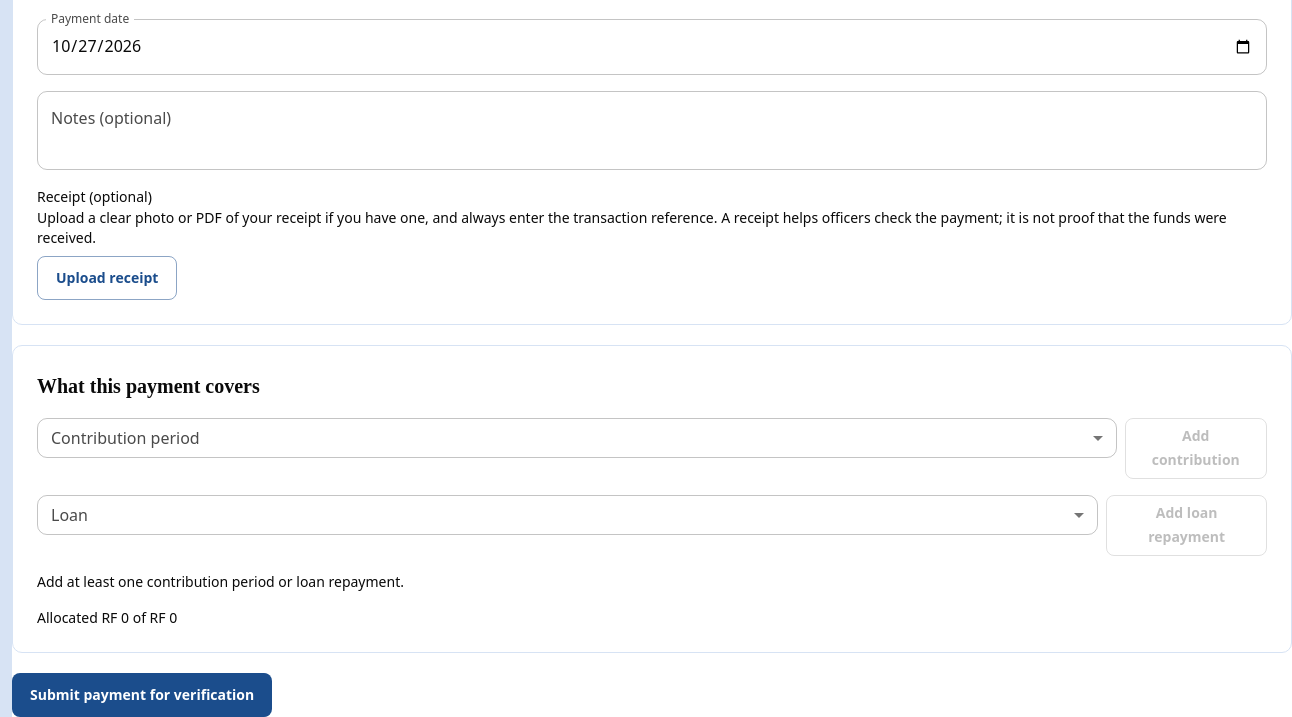
PaymentSubmitPanel › offers only repayable loans and no member-credit allocation
This screenshot has width=1292, height=717.
(page scrolled)
Expected: the button "Add contribution" is shown, [1124,418,1267,479]
Click the 2nd dropdown named "Loan" at (568, 515), box [37,495,1098,535]
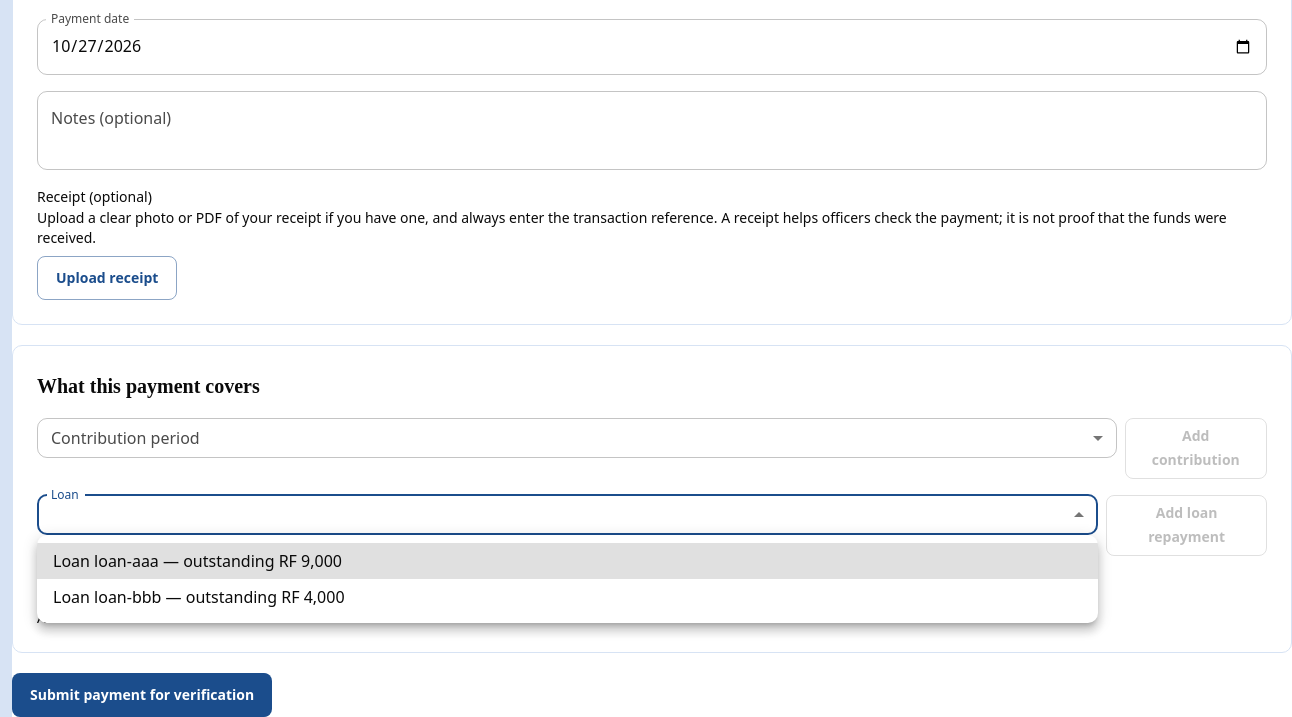
Expected: the option "Loan loan-aaa — outstanding RF 9,000" is shown, [37,543,1098,579]
Expected: the option "Loan loan-bbb — outstanding RF 4,000" is shown, [53,586,345,608]
